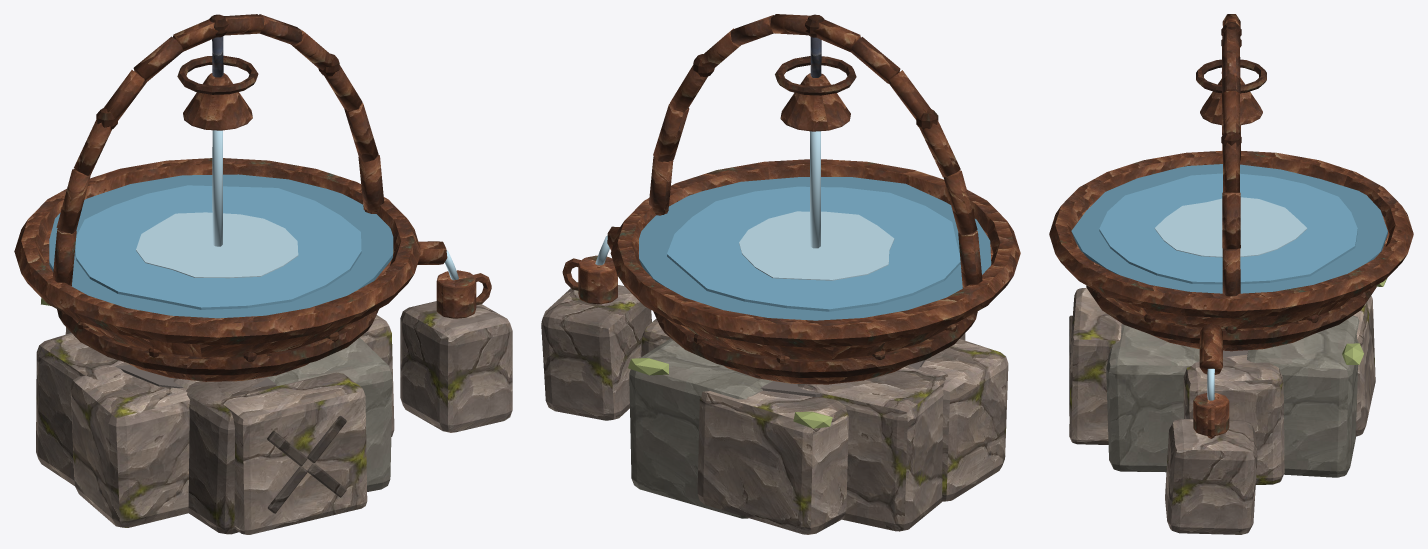
Rendered from copper_drip_basin.glb.
3 renders of one model, left to right at view 1: azimuth 30°, elevation 25°; view 2: azimuth 150°, elevation 25°; view 3: azimuth 270°, elevation 25°, orthographic. The views are drawn at different scales.
Visible parts, largest first — view 1: model; view 2: model; view 3: model.
Boxes of the visible parts, x1=… form: model: x1=14, y1=14, x2=512, y2=534; model: x1=541, y1=14, x2=1020, y2=534; model: x1=1049, y1=14, x2=1413, y2=534.
Size of the model in its own units: 1.13 by 1.11 by 0.9.
Materials: 15 (9 with a texture image).
